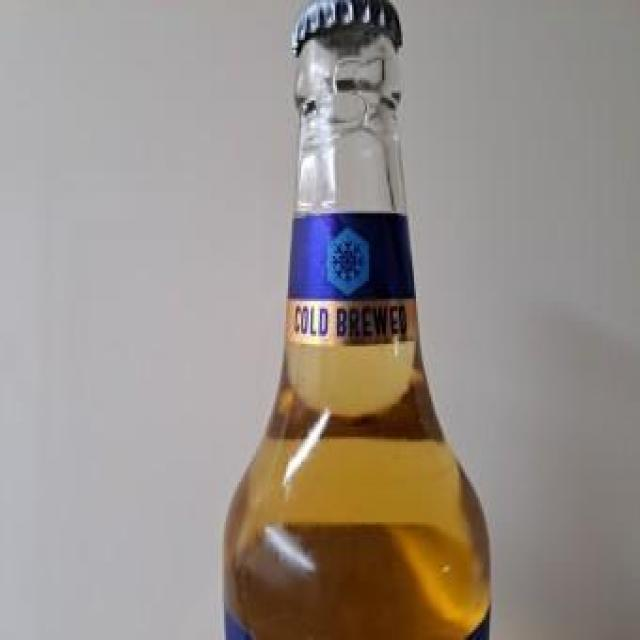beer-bottle: (222, 0, 494, 640)
